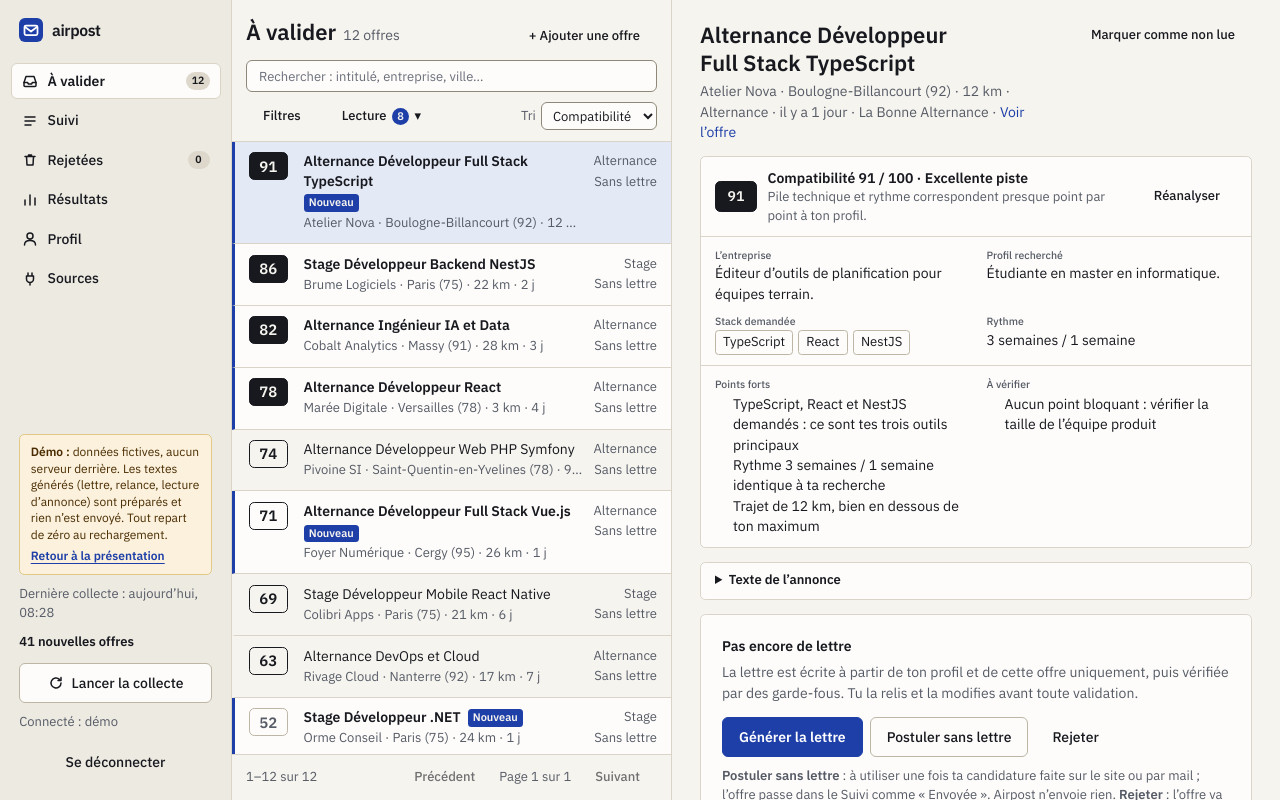
it: application en mode démo › à la collecte suivante, le badge « Nouveau » passe des anciennes offres aux nouvelles
Expected: the text "Alternance Développeur Full Stack TypeScript" is shown, 304,152 -> 528,190
Expected: the button "Alternance Développeur Full Stack TypeScript" shows "Nouveau", 232,142 -> 671,244
Click the button "Lancer la collecte" at (116, 683), box 19,663 -> 212,703
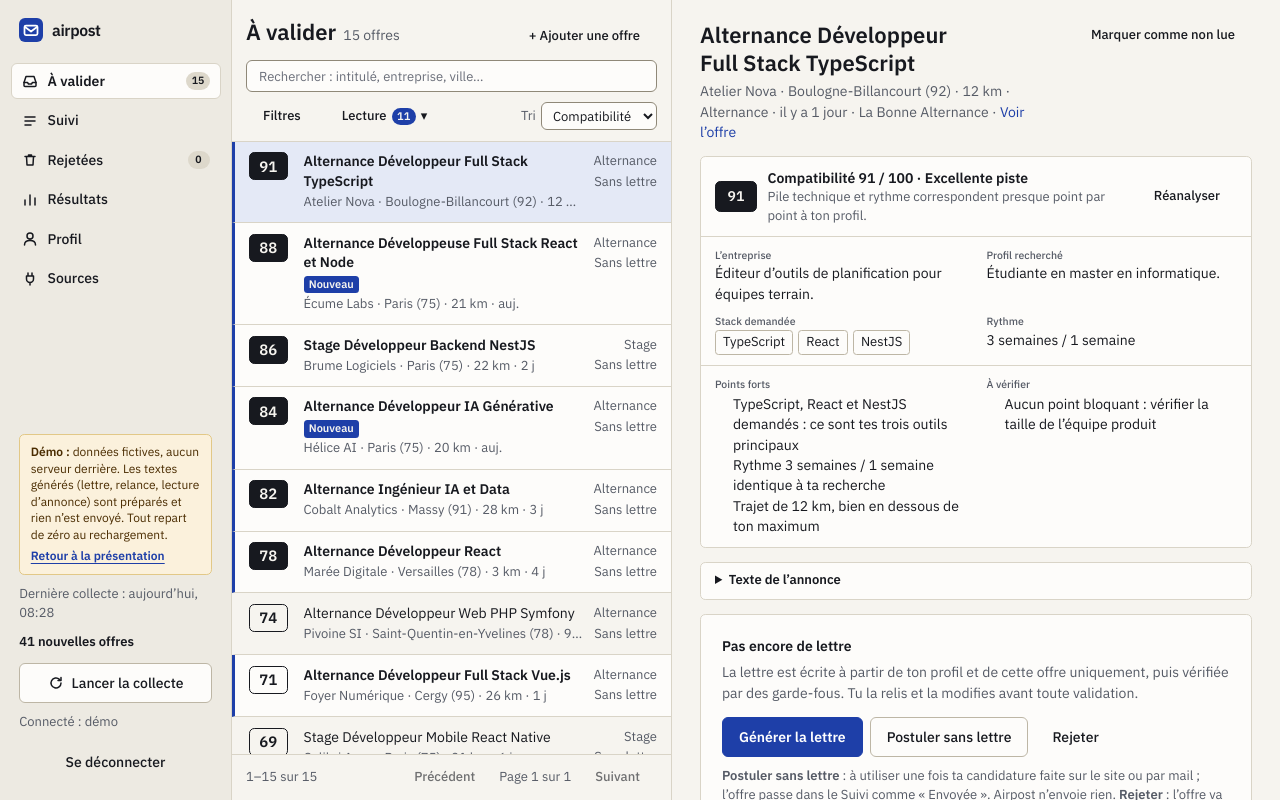
Expected: the button "Alternance Développeur Full Stack TypeScript" does not show "Nouveau", 232,142 -> 671,223
Expected: the text "Alternance Développeuse Full Stack React et Node" is shown, 304,234 -> 583,272
Expected: the button "Alternance Développeuse Full Stack React et Node" shows "Nouveau", 232,223 -> 671,325
